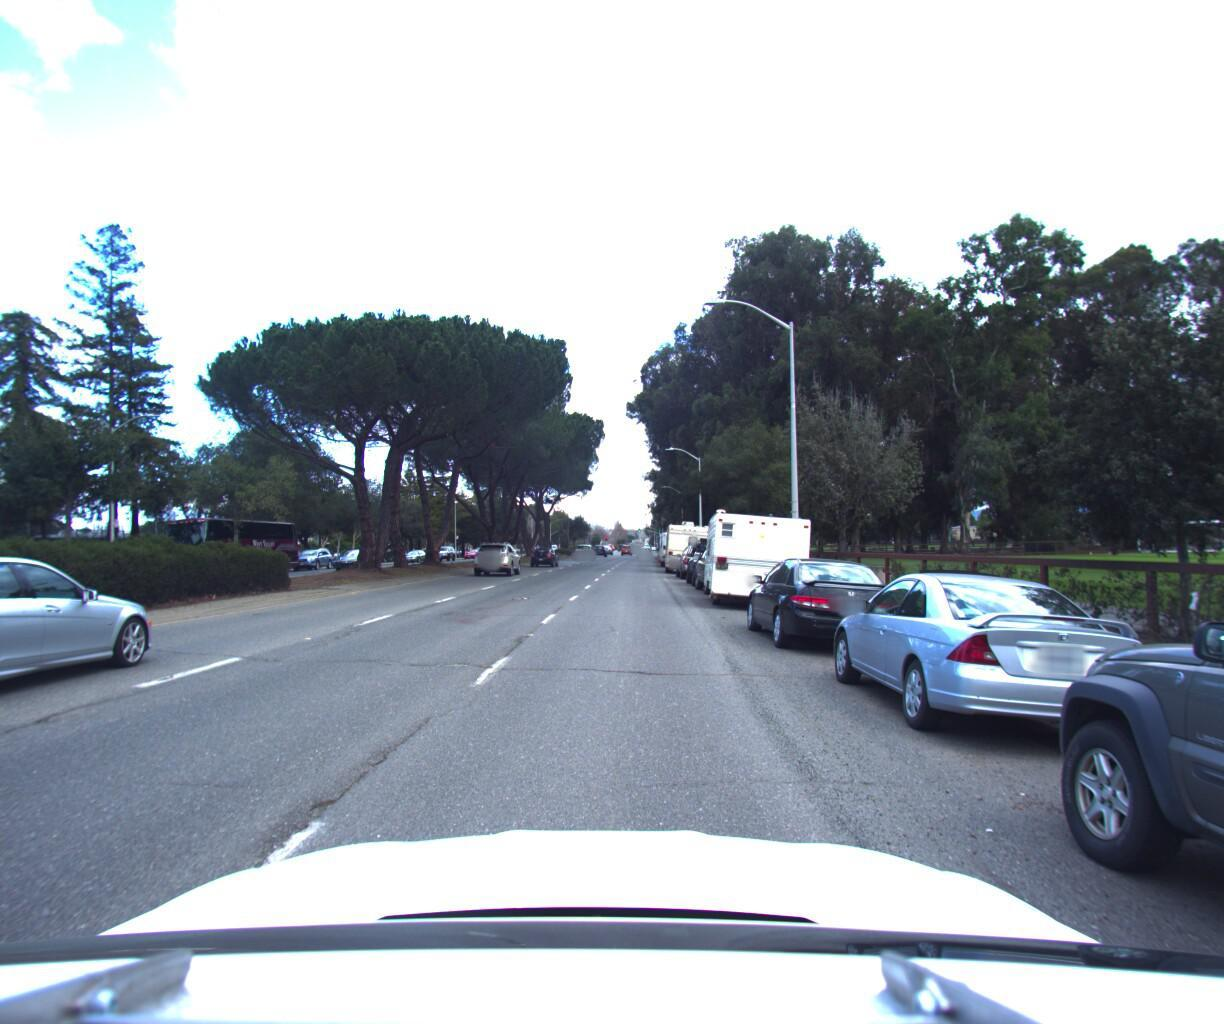bus: (151, 506, 306, 573)
car: (1014, 322, 1224, 1024), (818, 559, 1166, 769), (0, 540, 173, 728), (737, 547, 906, 658), (689, 533, 766, 592), (681, 529, 740, 582), (673, 527, 718, 573), (475, 533, 525, 569), (333, 541, 382, 569), (289, 539, 336, 562), (528, 539, 560, 563)
other_vehicle: (700, 498, 821, 608), (662, 508, 712, 566), (657, 517, 697, 560)
